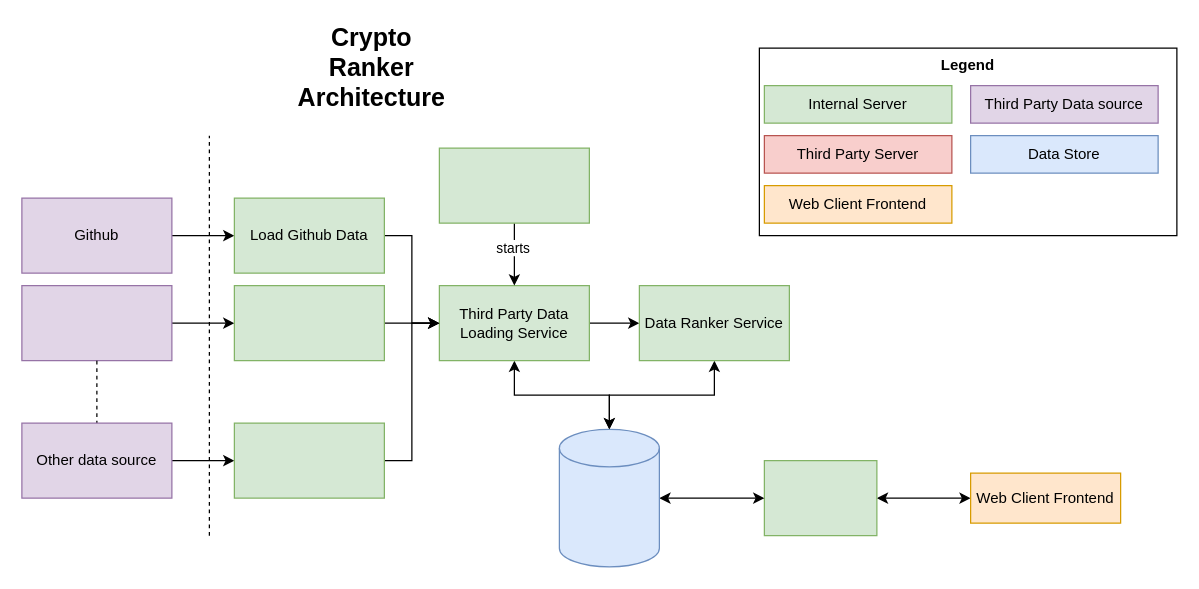
This 1199x589 diagram has some shape labels left out. The centre of each missing label's shape, as x and y in pixels:
"Coin Market Cap" goes at point (96, 322).
"cron script" goes at point (513, 185).
"Database" goes at point (608, 497).
"Load Coin Marketcap Data" goes at point (308, 322).
"Other data source loader" goes at point (308, 460).
"Web Server" goes at point (820, 497).
